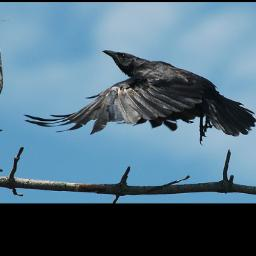Crow: (19, 48, 254, 147)
